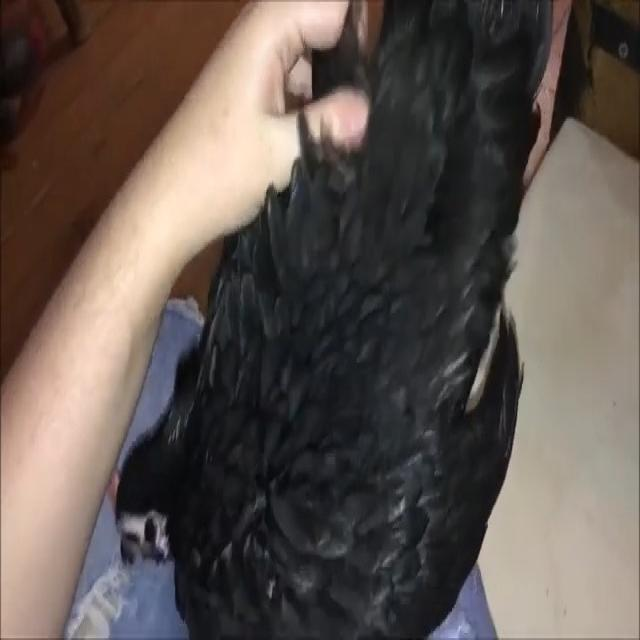self preening: (98, 0, 549, 640)
